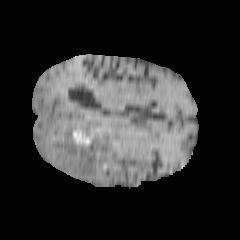glioma: (52, 114, 142, 181)
